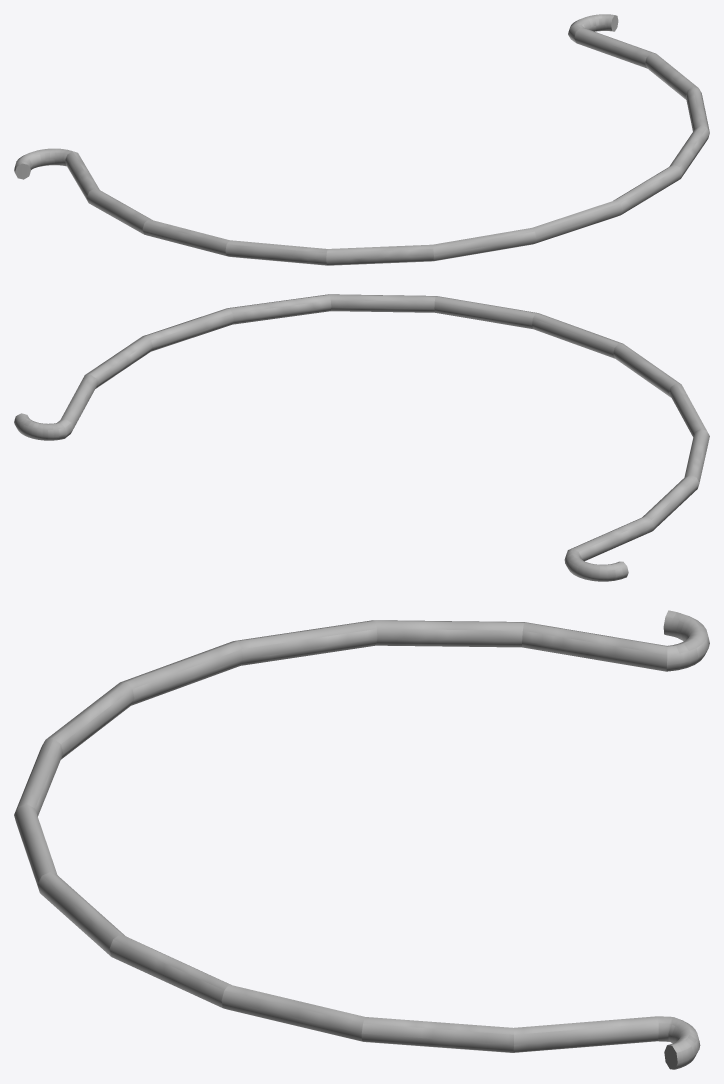
Rendered from original-1.obj.
3 renders of one model, top to bottom at view 1: azimuth 30°, elevation 25°; view 2: azimuth 150°, elevation 25°; view 3: azimuth 270°, elevation 25°, orthographic. The views are drawn at different scales.
Visible parts, largest first — view 1: group_2/ID24#ID24.008, group_2/ID24#ID24.007, group_2/ID24#ID24.009, group_2/ID24#ID24.002, group_2/ID24#ID24.010, group_2/ID24#ID24.014, group_2/ID24#ID24.003, group_2/ID24#ID24.011, group_2/ID24#ID24.012, group_2/ID24#ID24.006, group_2/ID24#ID24.004, group_2/ID24#ID24.013 (+2 smaller); view 2: group_2/ID24#ID24.003, group_2/ID24#ID24.004, group_2/ID24#ID24.002, group_2/ID24#ID24.005, group_2/ID24#ID24.007, group_2/ID24#ID24.001, group_2/ID24#ID24.006, group_2/ID24#ID24.008, group_2/ID24#ID24.012, group_2/ID24#ID24.011, group_2/ID24#ID24.013, group_2/ID24#ID24.014 (+2 smaller); view 3: group_2/ID24#ID24.006, group_2/ID24#ID24.001, group_2/ID24#ID24.011, group_2/ID24#ID24.014, group_2/ID24#ID24.005, group_2/ID24#ID24.010, group_2/ID24#ID24.004, group_2/ID24#ID24.009, group_2/ID24#ID24.003, group_2/ID24#ID24.008, group_2/ID24#ID24.012, group_2/ID24#ID24.002 (+2 smaller).
Part boxes in pixels (x1,y1,x2,y2): group_2/ID24#ID24.008: [326, 244, 433, 265]; group_2/ID24#ID24.007: [432, 228, 536, 261]; group_2/ID24#ID24.009: [225, 240, 327, 265]; group_2/ID24#ID24.002: [532, 200, 622, 243]; group_2/ID24#ID24.010: [142, 219, 229, 255]; group_2/ID24#ID24.014: [574, 28, 655, 68]; group_2/ID24#ID24.003: [613, 165, 682, 214]; group_2/ID24#ID24.011: [86, 188, 151, 234]; group_2/ID24#ID24.012: [14, 148, 72, 179]; group_2/ID24#ID24.006: [645, 53, 698, 99]; group_2/ID24#ID24.004: [669, 125, 709, 178]; group_2/ID24#ID24.013: [568, 14, 618, 42]; group_2/ID24#ID24.003: [329, 294, 435, 312]; group_2/ID24#ID24.004: [228, 294, 331, 324]; group_2/ID24#ID24.002: [434, 296, 537, 328]; group_2/ID24#ID24.005: [143, 308, 233, 351]; group_2/ID24#ID24.007: [532, 313, 622, 358]; group_2/ID24#ID24.001: [569, 516, 653, 561]; group_2/ID24#ID24.006: [85, 336, 152, 388]; group_2/ID24#ID24.008: [613, 343, 680, 397]; group_2/ID24#ID24.012: [564, 549, 628, 581]; group_2/ID24#ID24.011: [642, 475, 699, 530]; group_2/ID24#ID24.013: [14, 413, 73, 440]; group_2/ID24#ID24.014: [60, 374, 97, 430]; group_2/ID24#ID24.006: [361, 1017, 513, 1052]; group_2/ID24#ID24.001: [522, 622, 667, 671]; group_2/ID24#ID24.011: [374, 620, 524, 647]; group_2/ID24#ID24.014: [513, 1016, 658, 1052]; group_2/ID24#ID24.005: [221, 984, 364, 1041]; group_2/ID24#ID24.010: [233, 620, 377, 665]; group_2/ID24#ID24.004: [109, 934, 230, 1007]; group_2/ID24#ID24.009: [120, 641, 242, 705]; group_2/ID24#ID24.003: [37, 872, 125, 956]; group_2/ID24#ID24.008: [46, 682, 134, 759]; group_2/ID24#ID24.012: [663, 610, 709, 671]; group_2/ID24#ID24.002: [14, 804, 57, 890].
Size of the model in its own units: 1.28 by 0.0698 by 0.8433.
